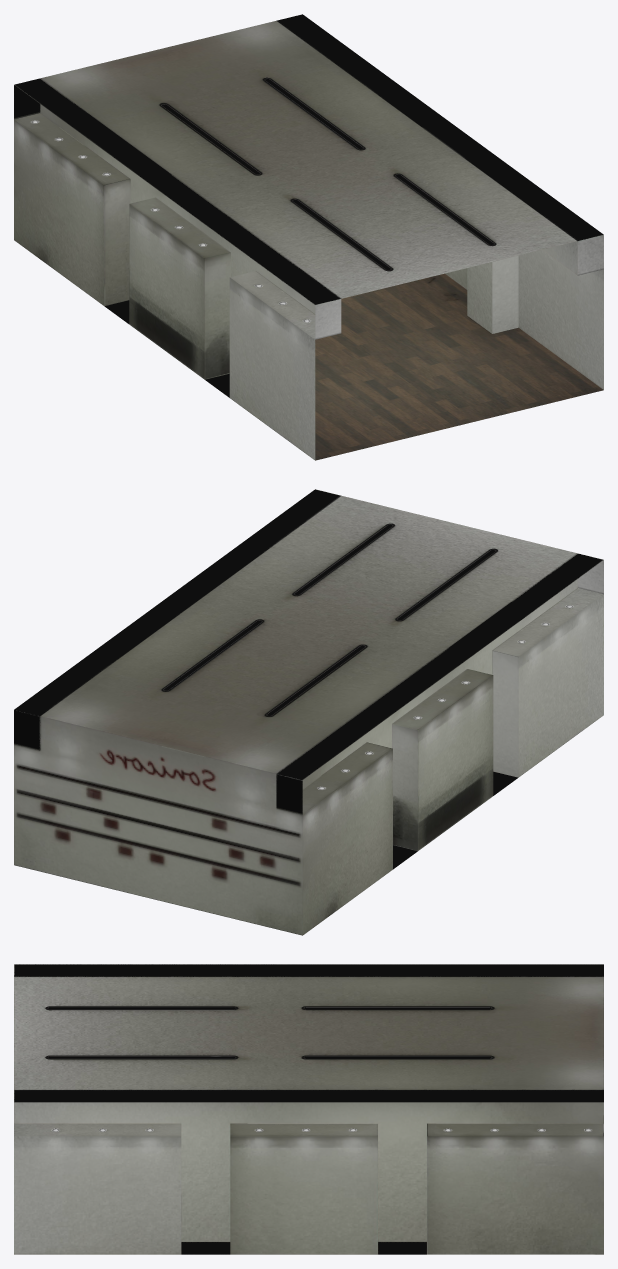
The model's file is scenery.glb.
The picture shows the model from 3 angles, top to bottom: view 1: azimuth 30°, elevation 25°; view 2: azimuth 150°, elevation 25°; view 3: azimuth 270°, elevation 25°; orthographic projection. The views are drawn at different scales.
Parts seen in each view (by area): view 1: Cube_Baked; view 2: Cube_Baked; view 3: Cube_Baked.
Part boxes in pixels (x1=…): Cube_Baked: x1=14, y1=14, x2=603, y2=460; Cube_Baked: x1=14, y1=489, x2=603, y2=935; Cube_Baked: x1=14, y1=964, x2=603, y2=1254.
Bounding box in the file's own units: 39.24 × 20.2 × 70.91.
Materials: 1 (1 with a texture image).
